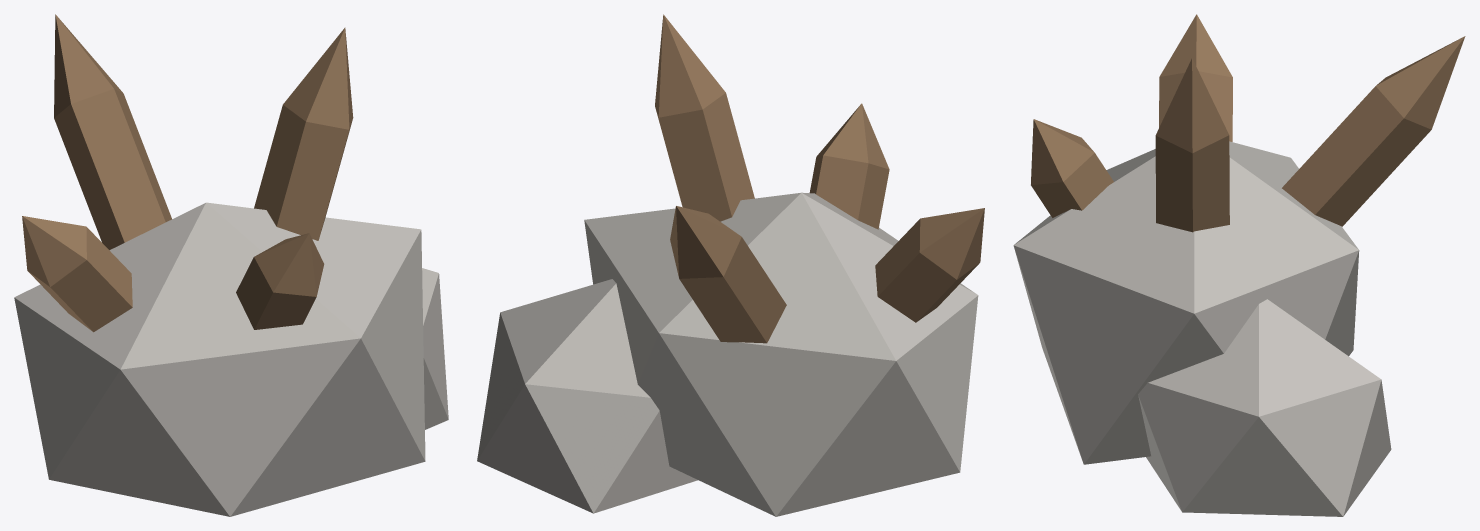
The model's file is bog_iron_outcrop.glb.
The picture shows the model from 3 angles, left to right: view 1: azimuth 30°, elevation 25°; view 2: azimuth 150°, elevation 25°; view 3: azimuth 270°, elevation 25°; orthographic projection. The views are drawn at different scales.
Parts seen in each view (by area): view 1: bog_iron_outcrop; view 2: bog_iron_outcrop; view 3: bog_iron_outcrop.
Part boxes in pixels (<box>): bog_iron_outcrop: <box>14,14,448,516</box>; bog_iron_outcrop: <box>477,14,984,516</box>; bog_iron_outcrop: <box>1013,14,1465,516</box>.
Size of the model in its own units: 0.948 by 0.8343 by 0.8392.
